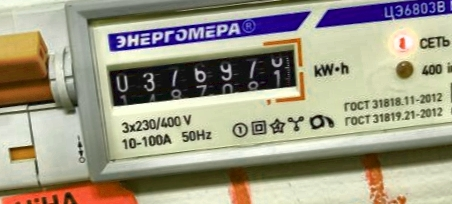0: (113, 70, 130, 93)
1: (271, 67, 284, 89)
3: (141, 70, 158, 93)
6: (191, 59, 209, 84)
7: (166, 64, 184, 89), (243, 55, 261, 80)
9: (217, 58, 234, 82)
screen: (96, 26, 314, 129)
